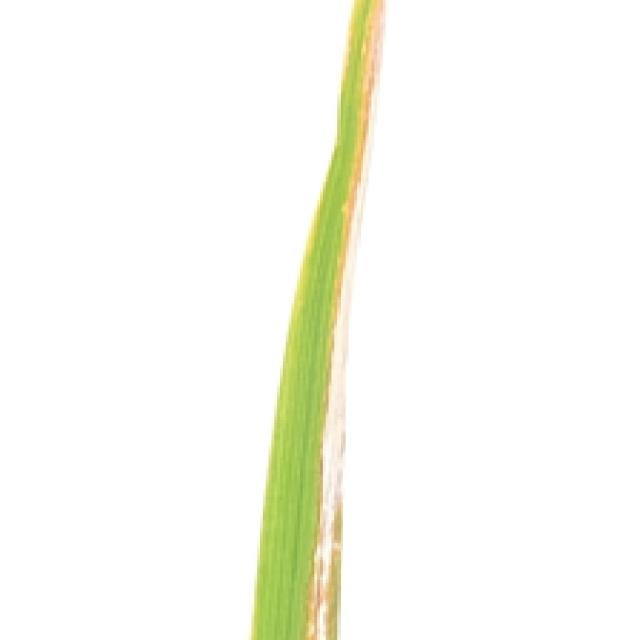Rice___Bacterial_Leaf_Blight: (249, 0, 386, 637)
